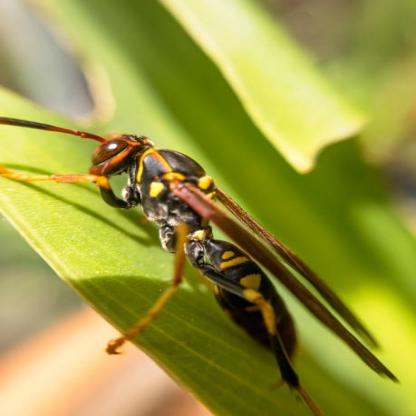sawfly: (2, 105, 410, 416)
